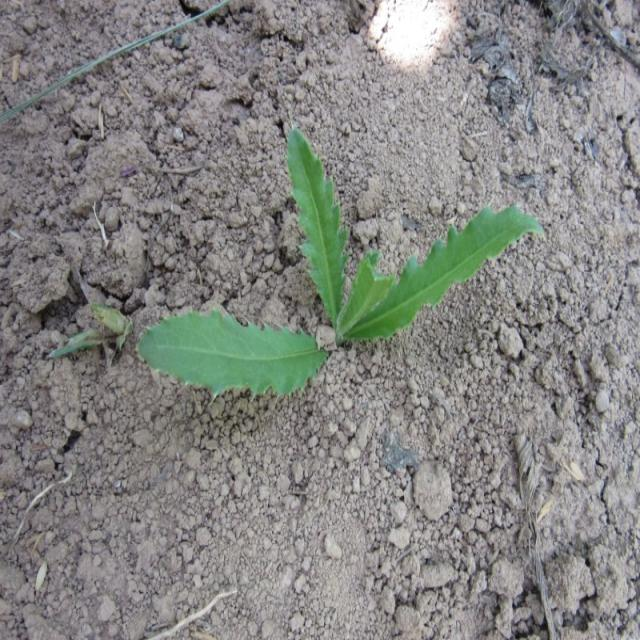field_thistle: (113, 127, 529, 438)
